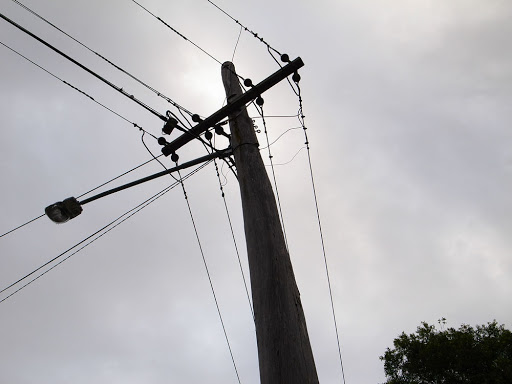utility_pole: (136, 45, 312, 182)
